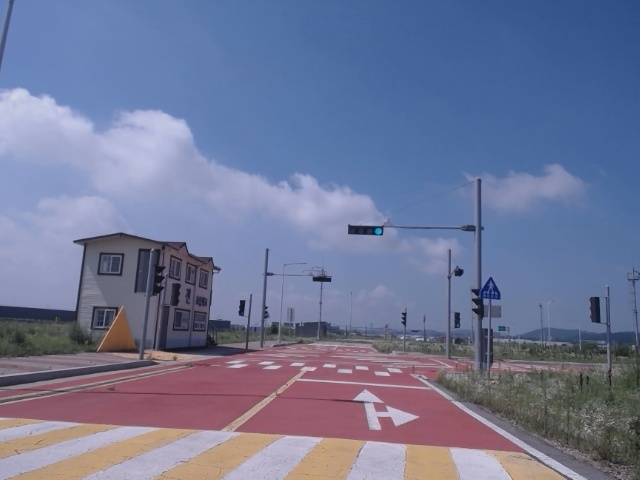straight_green_4: (348, 226, 383, 235)
